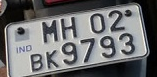0: (90, 12, 105, 34)
2: (107, 9, 127, 32)
3: (118, 31, 137, 56)
7: (80, 36, 97, 63)
9: (60, 40, 79, 65), (98, 35, 117, 59)
B: (29, 52, 44, 72)
H: (59, 16, 79, 40)
K: (45, 49, 59, 70)
M: (41, 19, 59, 43)
